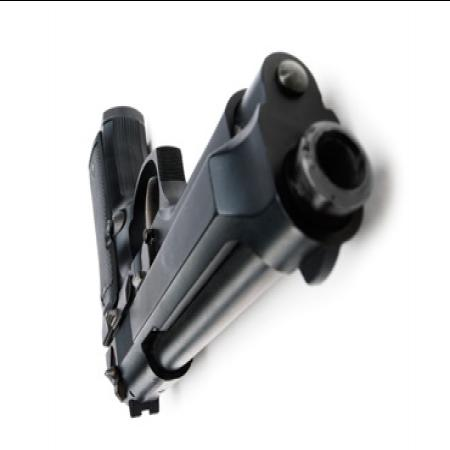Pistol: (84, 36, 371, 428)
